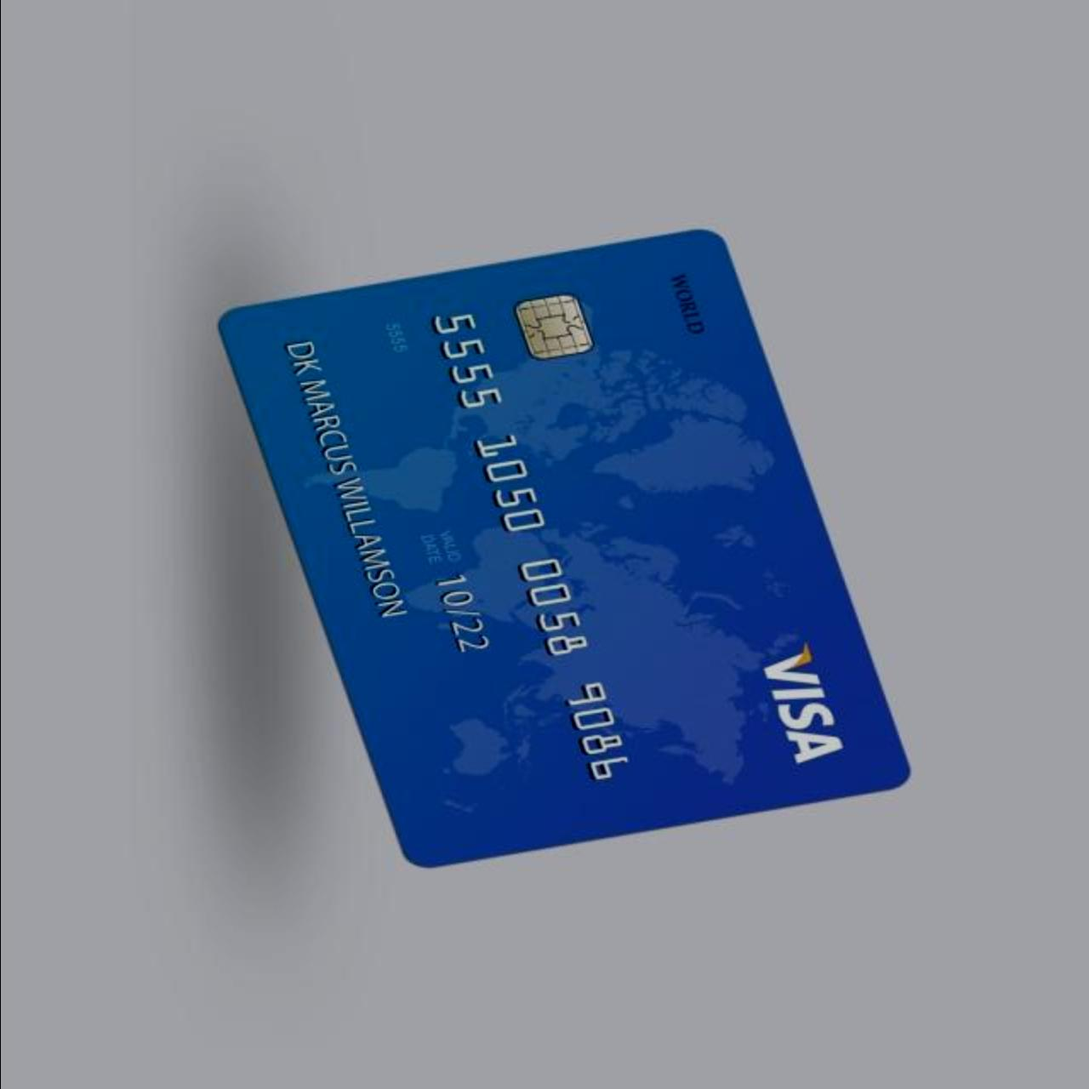credit_card: (208, 225, 922, 881)
